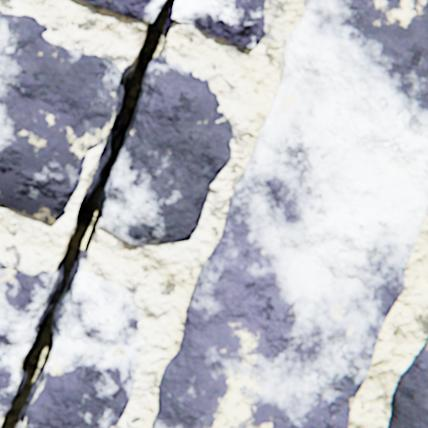brick: (151, 0, 427, 427), (386, 331, 427, 427)
broken_brick: (0, 13, 125, 222), (99, 55, 232, 245), (25, 270, 143, 427), (0, 267, 56, 420), (173, 0, 266, 49), (82, 0, 163, 22), (0, 261, 6, 266)
crack: (0, 0, 178, 427)
